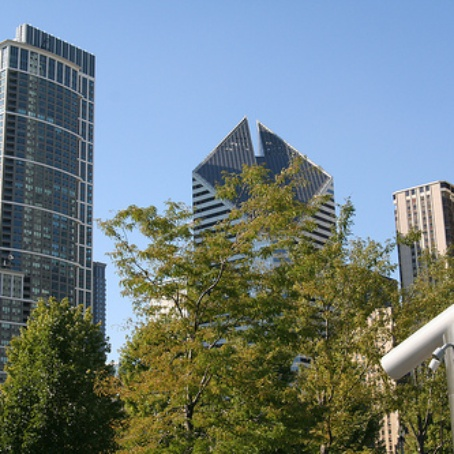building: (1, 26, 119, 326), (196, 112, 330, 356), (391, 183, 454, 288)
sky: (95, 1, 454, 171)
vegetation: (33, 212, 454, 454)
